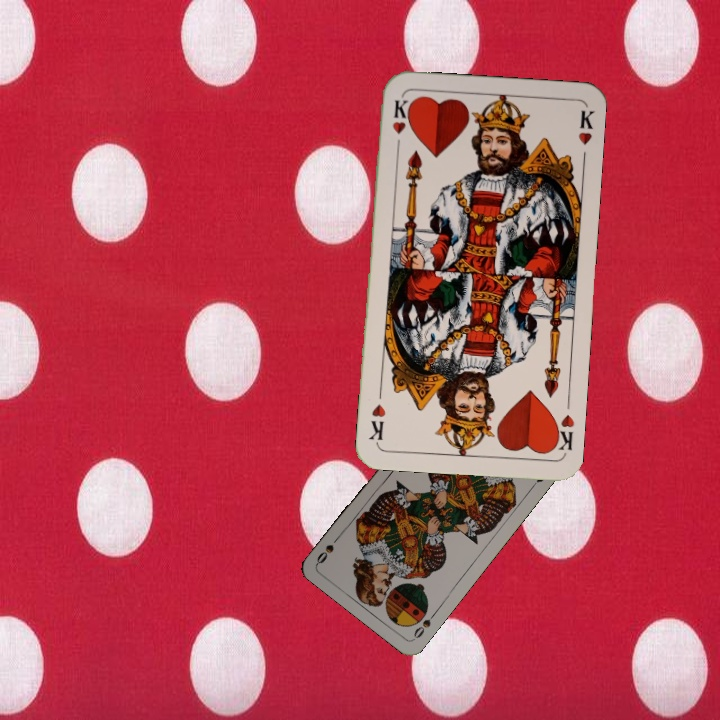HK: (388, 95, 412, 154), (548, 410, 577, 454)
SO: (409, 608, 439, 642)
